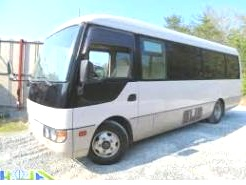bus: (25, 17, 240, 164)
